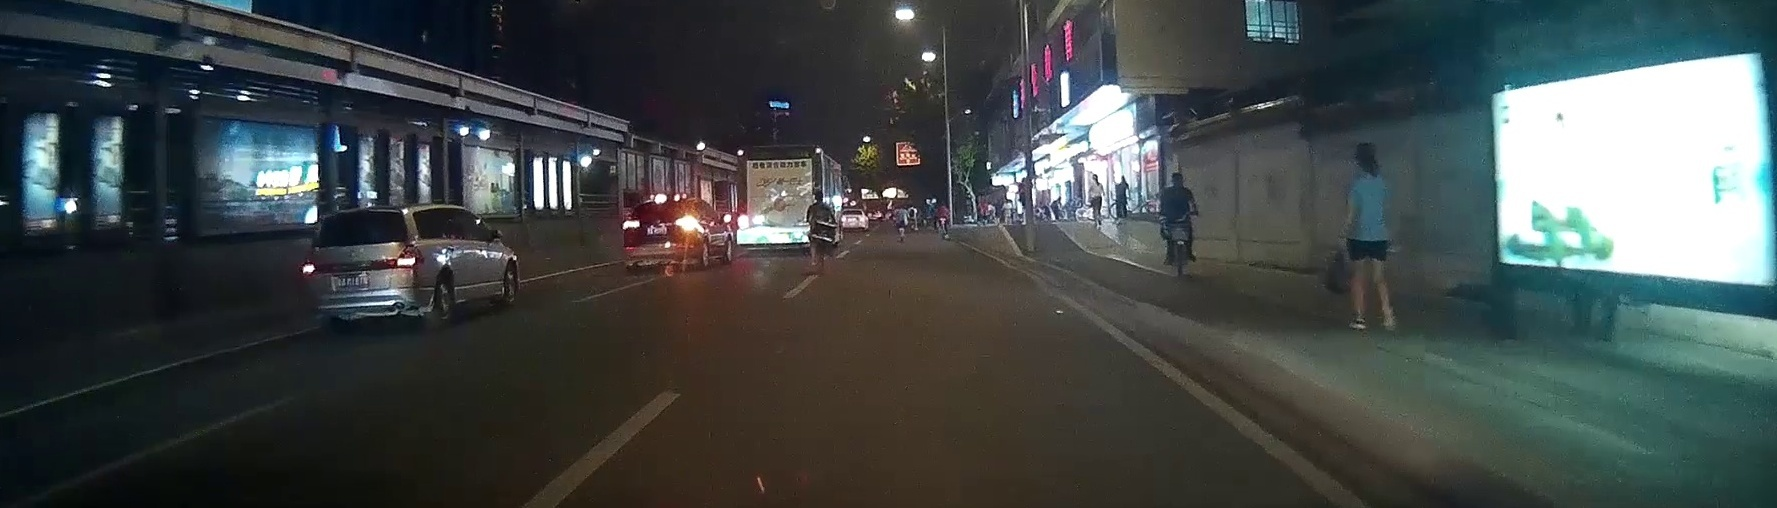L_light: (301, 260, 322, 276), (623, 221, 639, 230)
R_light: (396, 244, 423, 268), (675, 219, 697, 228)
T_light: (357, 210, 373, 215), (657, 200, 668, 204)
day-no: (300, 204, 430, 335)
night-right: (622, 196, 702, 273)
